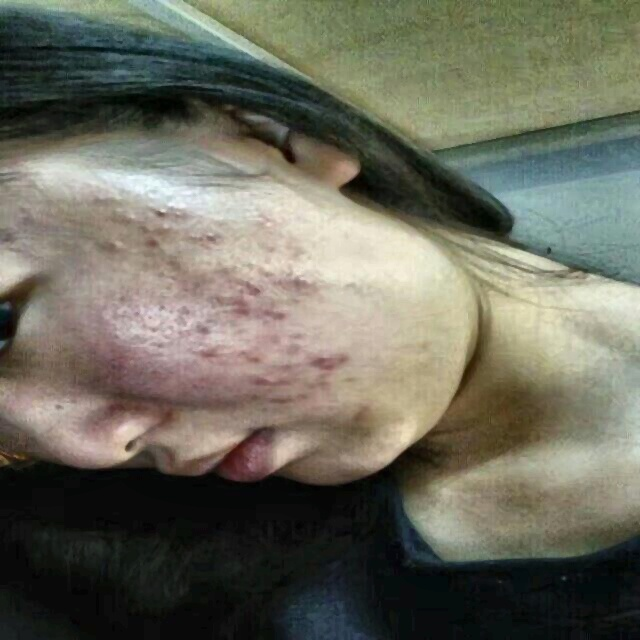pustule: (305, 351, 355, 378), (247, 367, 297, 392), (184, 338, 224, 367), (280, 263, 310, 300), (239, 347, 277, 371), (232, 288, 252, 323), (151, 206, 189, 224), (260, 306, 292, 323), (136, 232, 174, 246), (189, 229, 227, 243)
